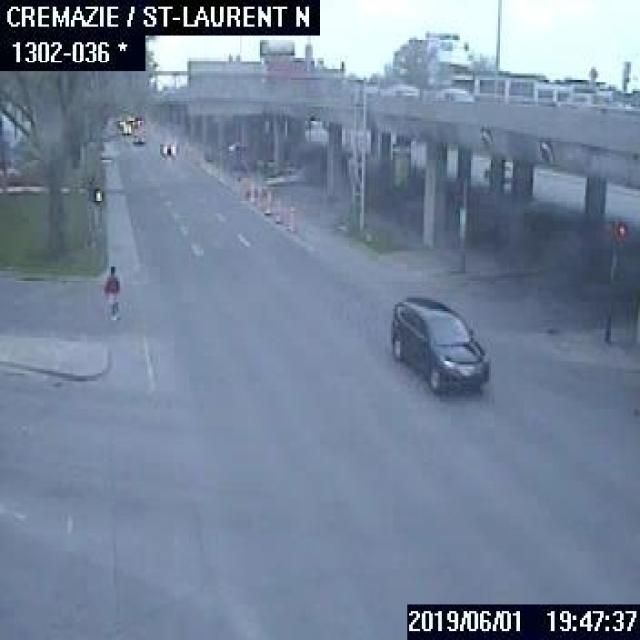construction: (263, 189, 270, 212), (285, 206, 293, 226), (254, 182, 261, 204), (274, 195, 280, 218)
pedestrian: (100, 262, 120, 320)
vehicle: (387, 286, 491, 396), (554, 82, 614, 109), (156, 136, 178, 158), (129, 129, 146, 144)
